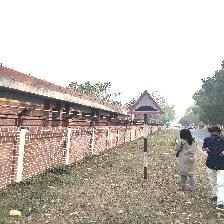Speed-breaker: (128, 91, 164, 114)
